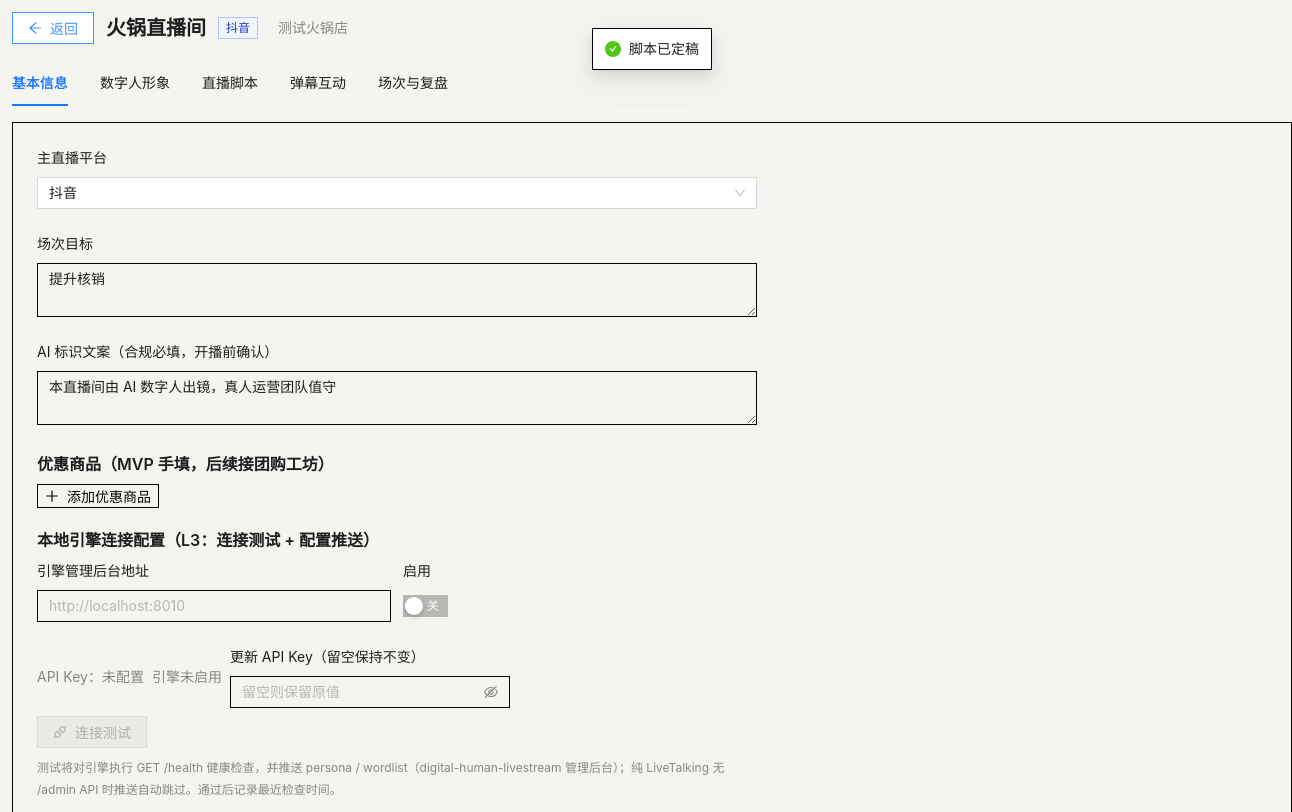
Test: LiveEditorPage · 直播脚本 › 已归档脚本（无活跃批次）：导出禁用
The width and height of the screenshot is (1292, 812).
Expected: the heading "火锅直播间" is shown, [106,14,206,42]
What coordinates should you click on to do the following:
click the tab "直播脚本"
I would click on:
 (230, 83)
Its box is [202,72,258,94].
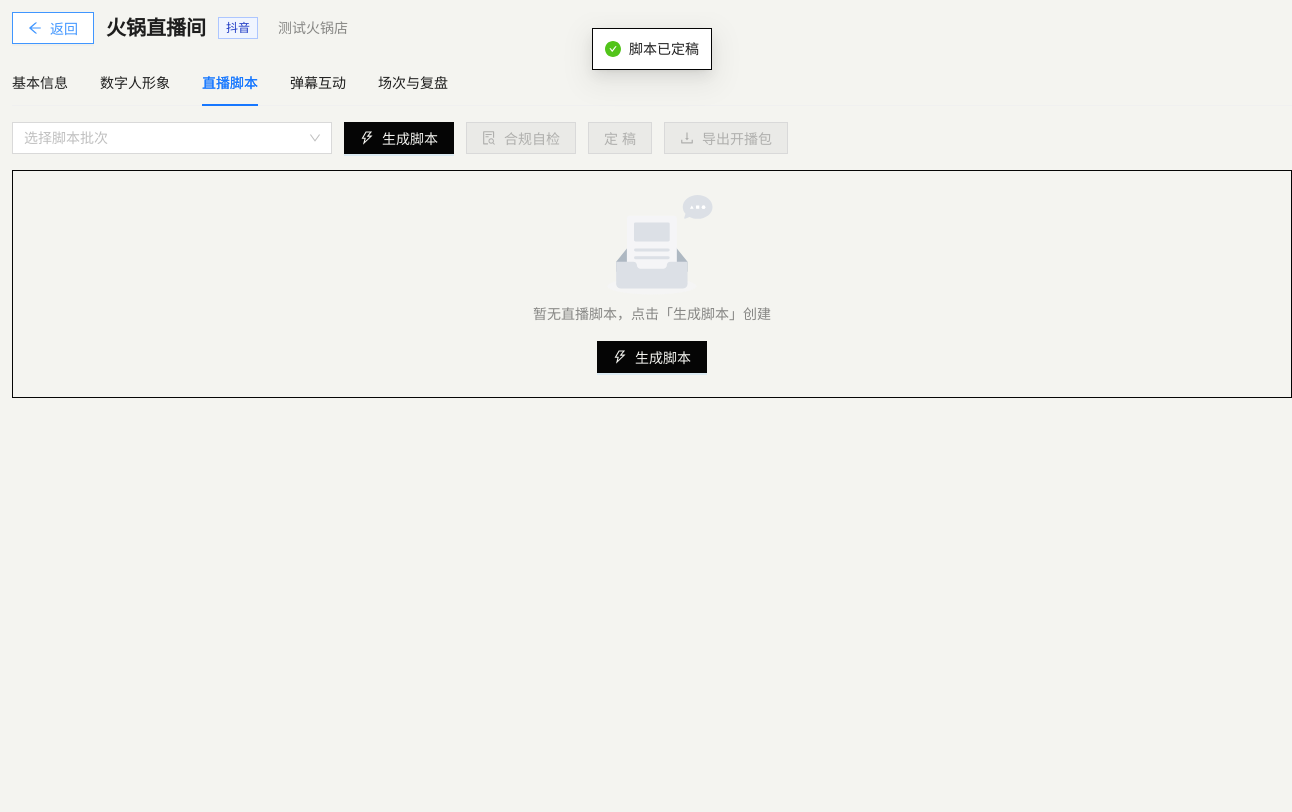
Result: the button "导出开播包" is disabled at [664,122,788,154]
